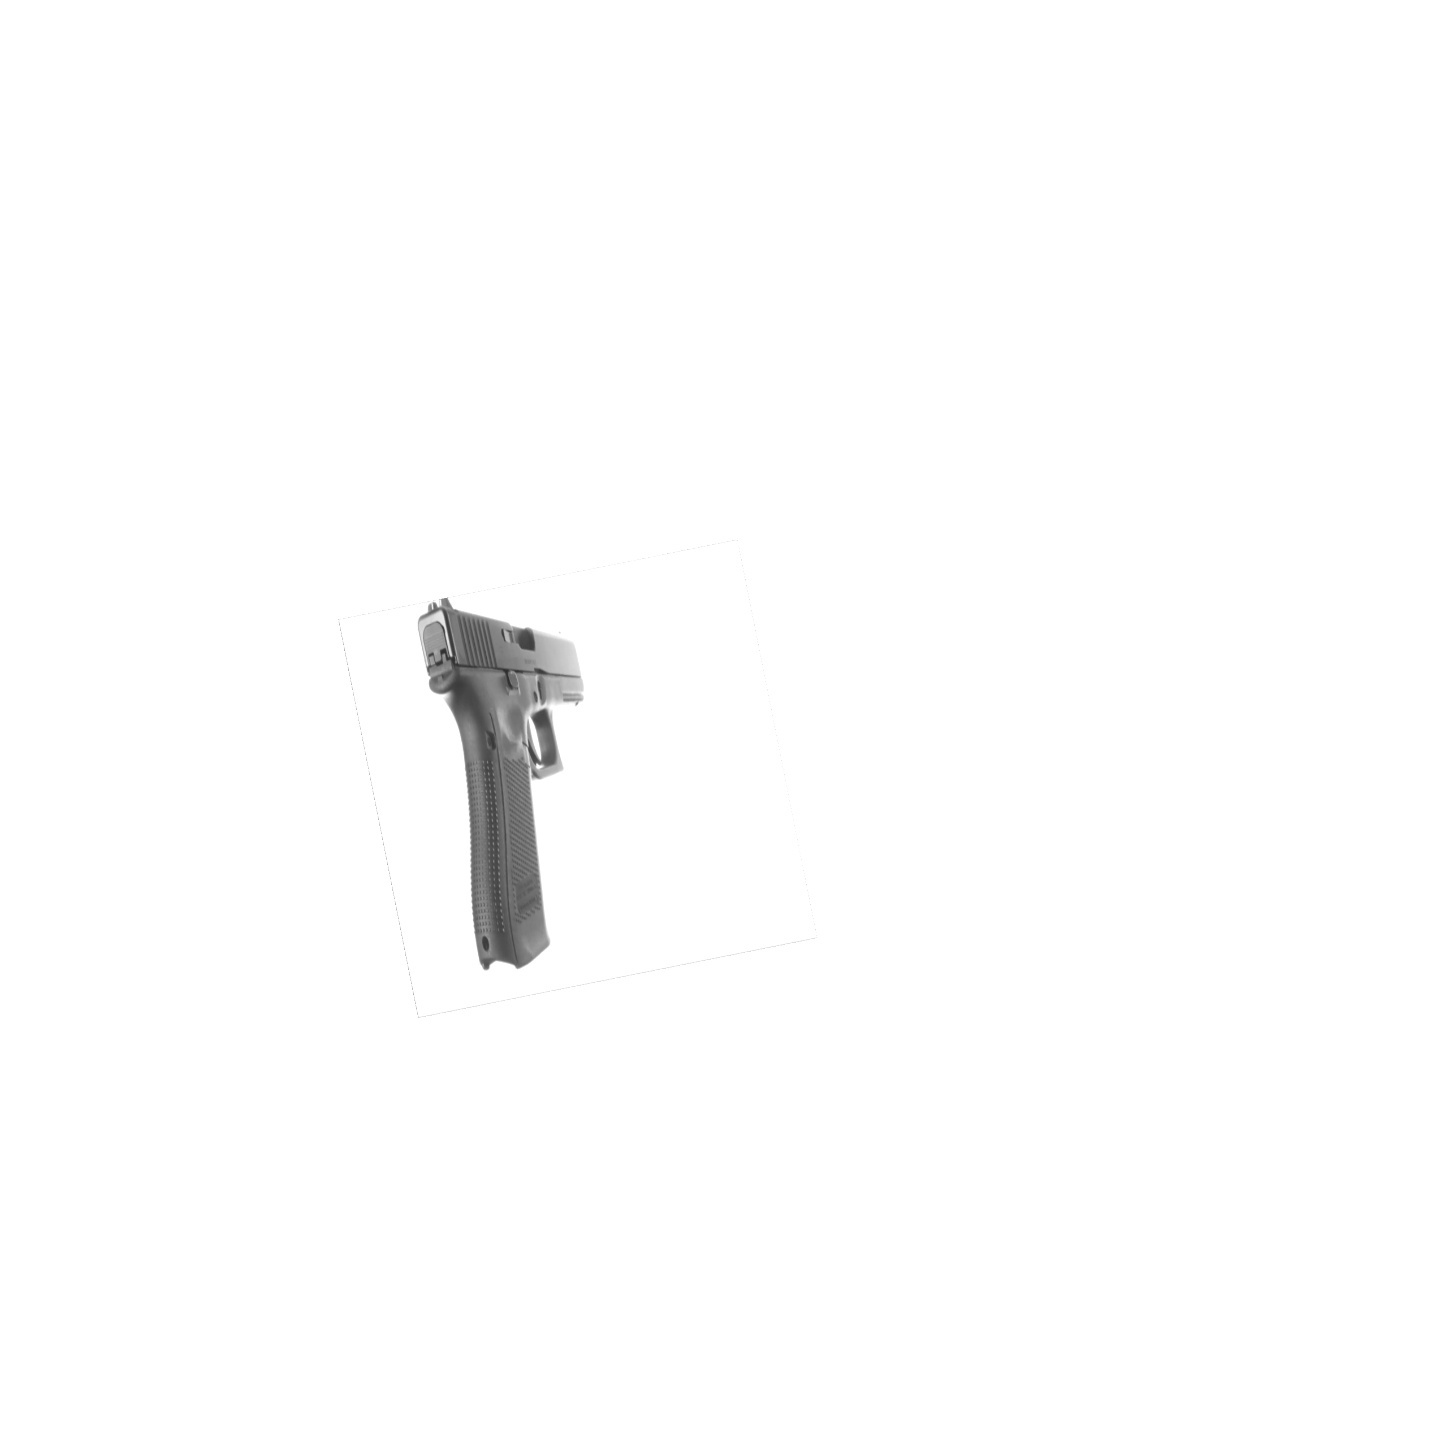gun: (413, 600, 583, 971)
